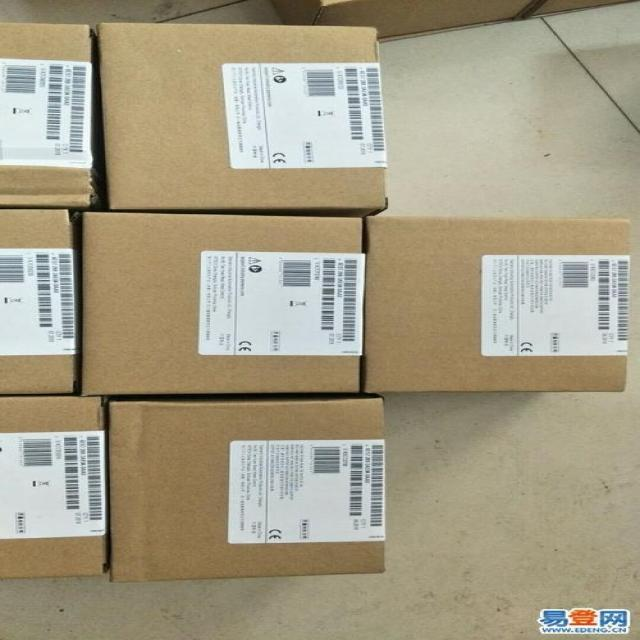box: (94, 24, 382, 217), (81, 210, 366, 397), (110, 397, 384, 581), (367, 219, 627, 391), (0, 397, 106, 577), (0, 23, 98, 212), (0, 211, 81, 397), (264, 0, 535, 40)
